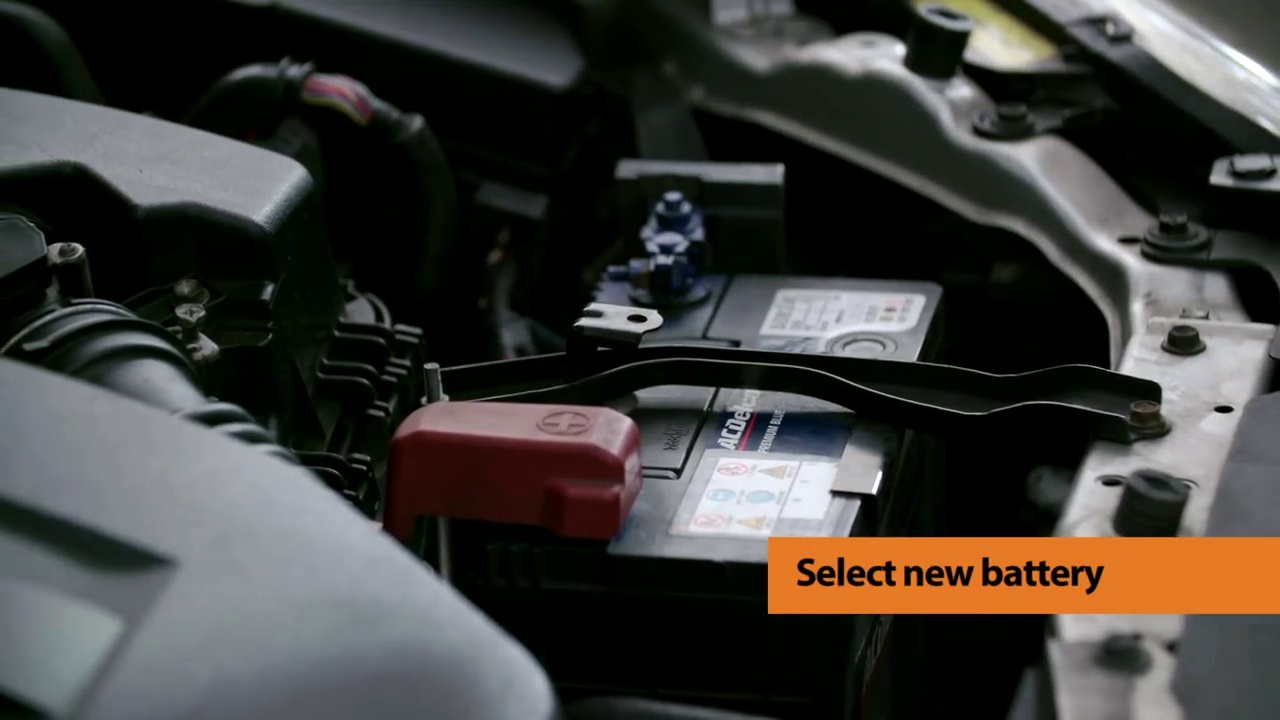battery: (525, 265, 945, 574)
neg_connected: (584, 198, 748, 298)
pos_connected: (410, 388, 660, 570)
